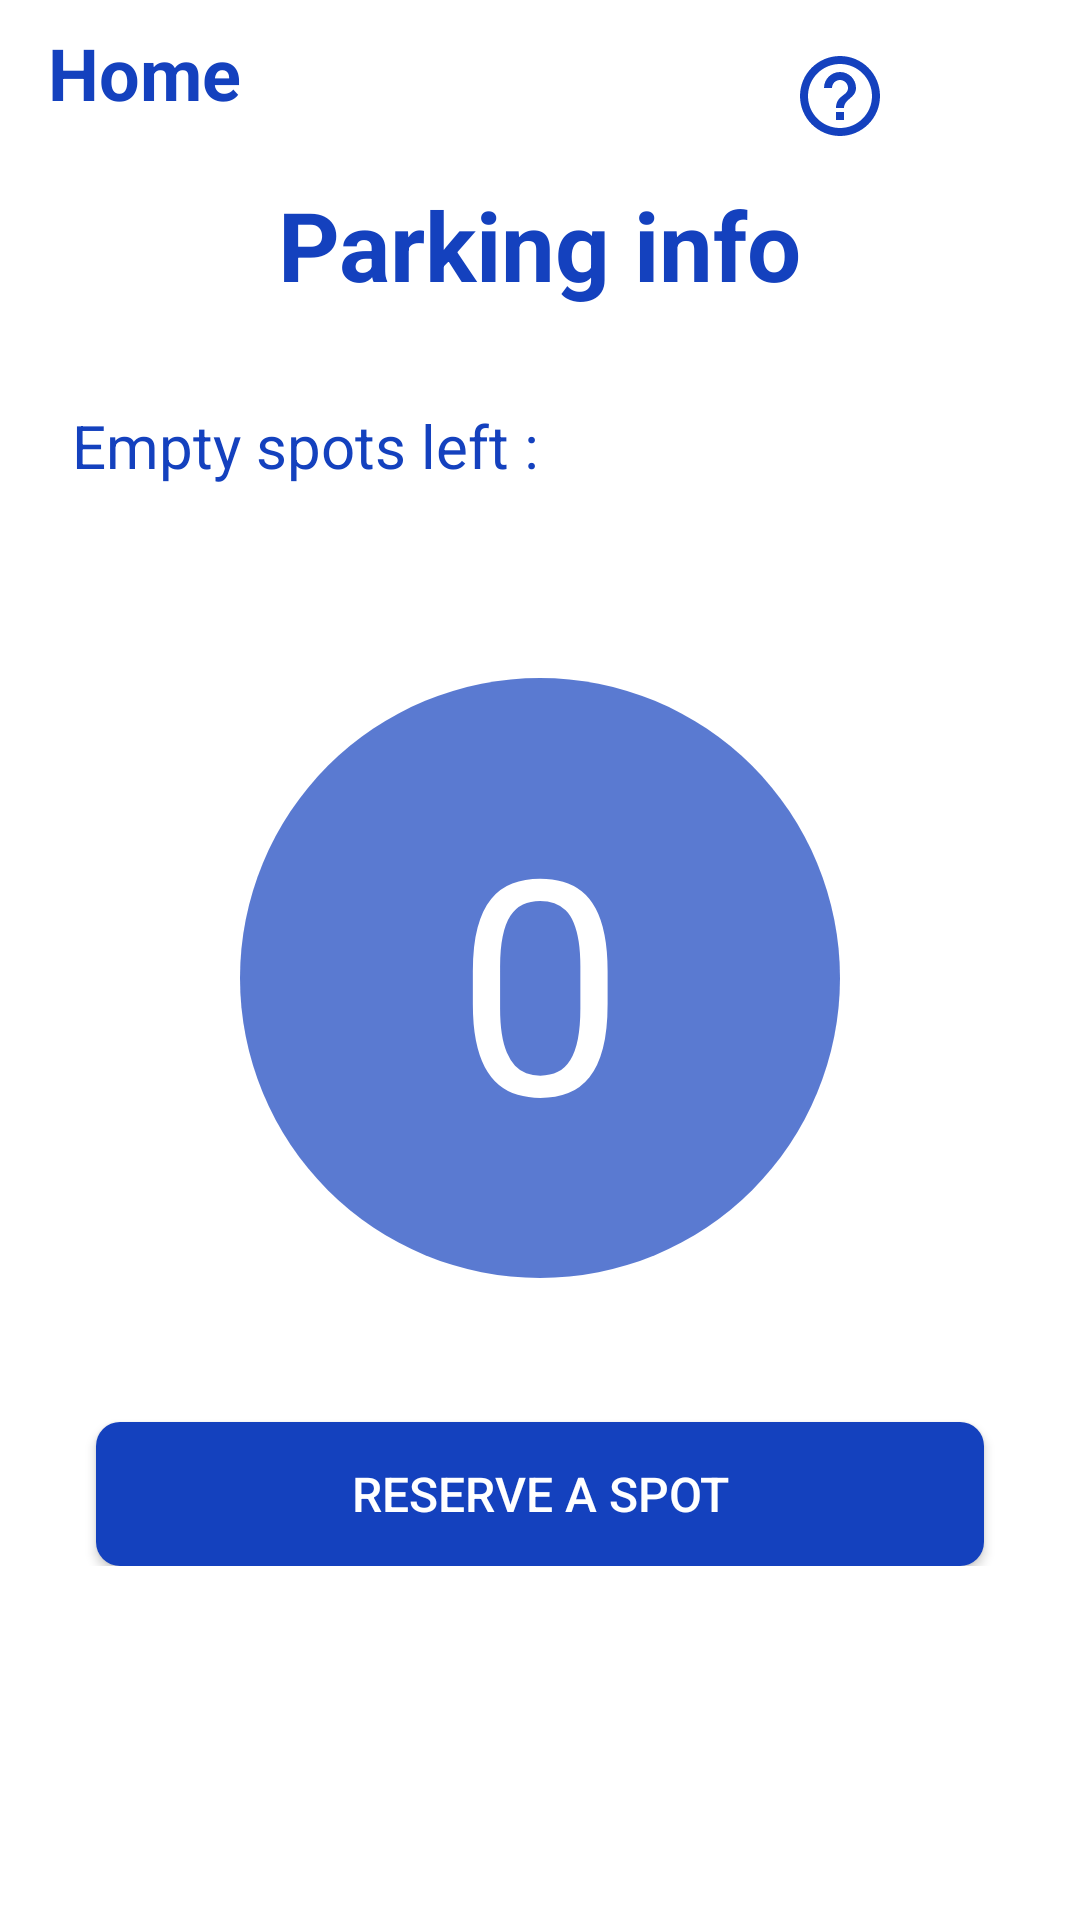

Where icons sit on this 1080w x 1920h app screen, as (x1,y1,x2,y2):
help: (800,56,880,136)
